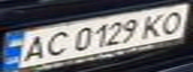0: (69, 25, 93, 53)
1: (90, 20, 112, 50)
2: (106, 17, 127, 47)
9: (118, 16, 145, 44)
A: (15, 33, 51, 64)
C: (39, 29, 72, 58)
K: (136, 10, 172, 39)
O: (154, 7, 193, 35)
